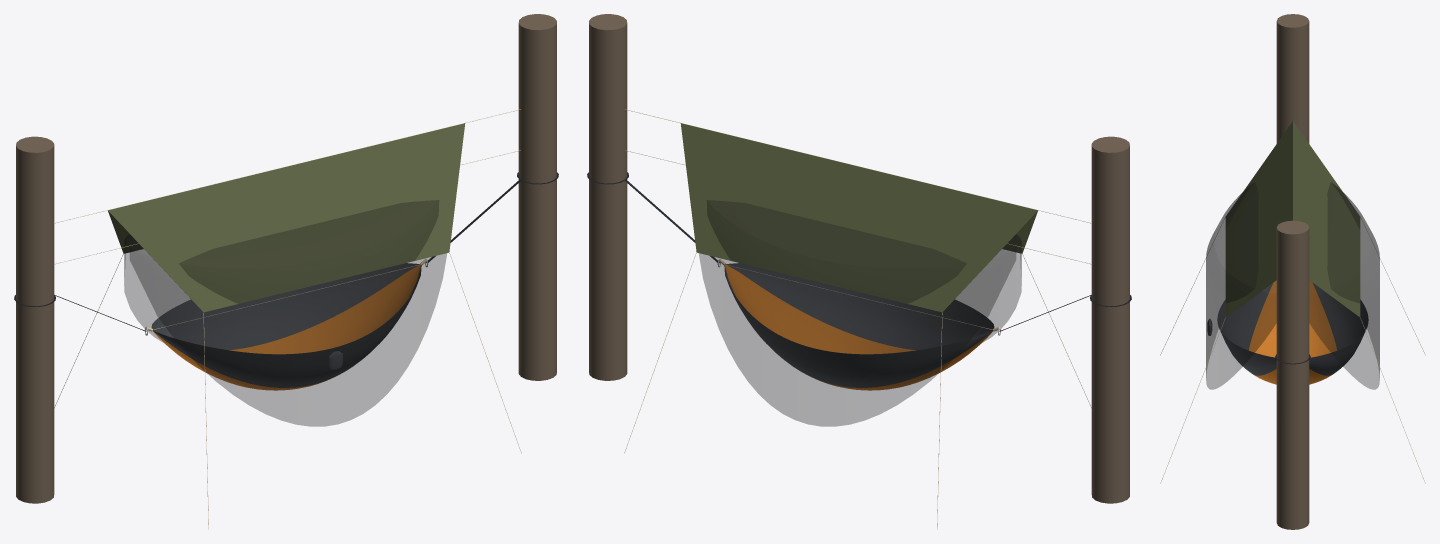
The model's file is hammock_camping_shelter.glb.
3 renders of one model, left to right at view 1: azimuth 30°, elevation 25°; view 2: azimuth 150°, elevation 25°; view 3: azimuth 270°, elevation 25°, orthographic. The views are drawn at different scales.
Visible parts, largest first — view 1: hammock_camping_shelter, bed_hammock_camping_shelter; view 2: hammock_camping_shelter, bed_hammock_camping_shelter; view 3: hammock_camping_shelter, bed_hammock_camping_shelter.
Boxes of the visible parts, x1=… form: hammock_camping_shelter: x1=14, y1=14, x2=558, y2=529; bed_hammock_camping_shelter: x1=54, y1=179, x2=520, y2=390; hammock_camping_shelter: x1=587, y1=14, x2=1131, y2=529; bed_hammock_camping_shelter: x1=625, y1=180, x2=1090, y2=390; hammock_camping_shelter: x1=1160, y1=14, x2=1425, y2=529; bed_hammock_camping_shelter: x1=1207, y1=280, x2=1368, y2=384.
Size of the model in its own units: 4.83 by 3 by 2.44.
